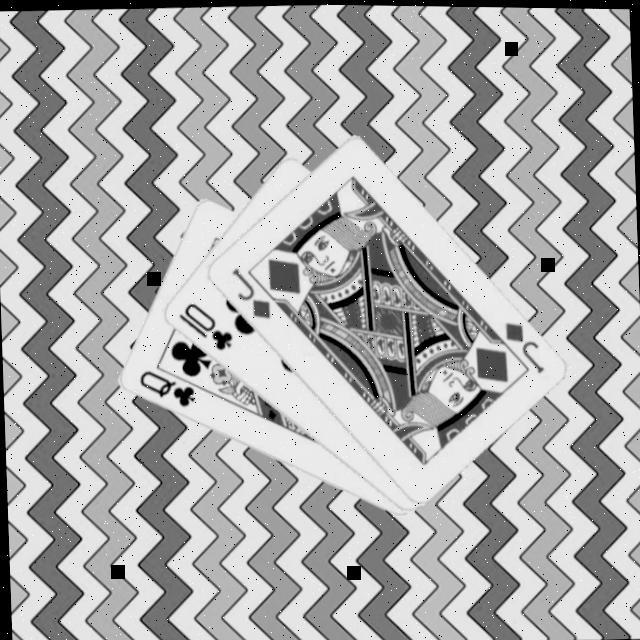10C: (172, 298, 234, 357)
JD: (498, 316, 545, 378), (225, 264, 271, 325)
QC: (133, 366, 196, 413)
